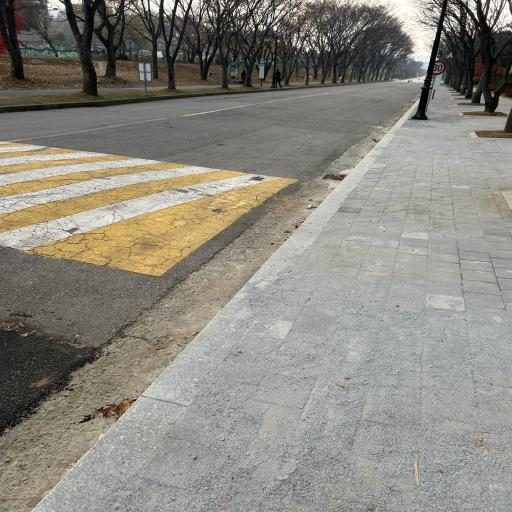debris: (335, 175, 343, 180)
drain: (322, 174, 347, 181)
